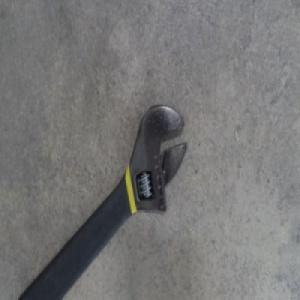AdjustableWrench: (25, 102, 188, 295)
